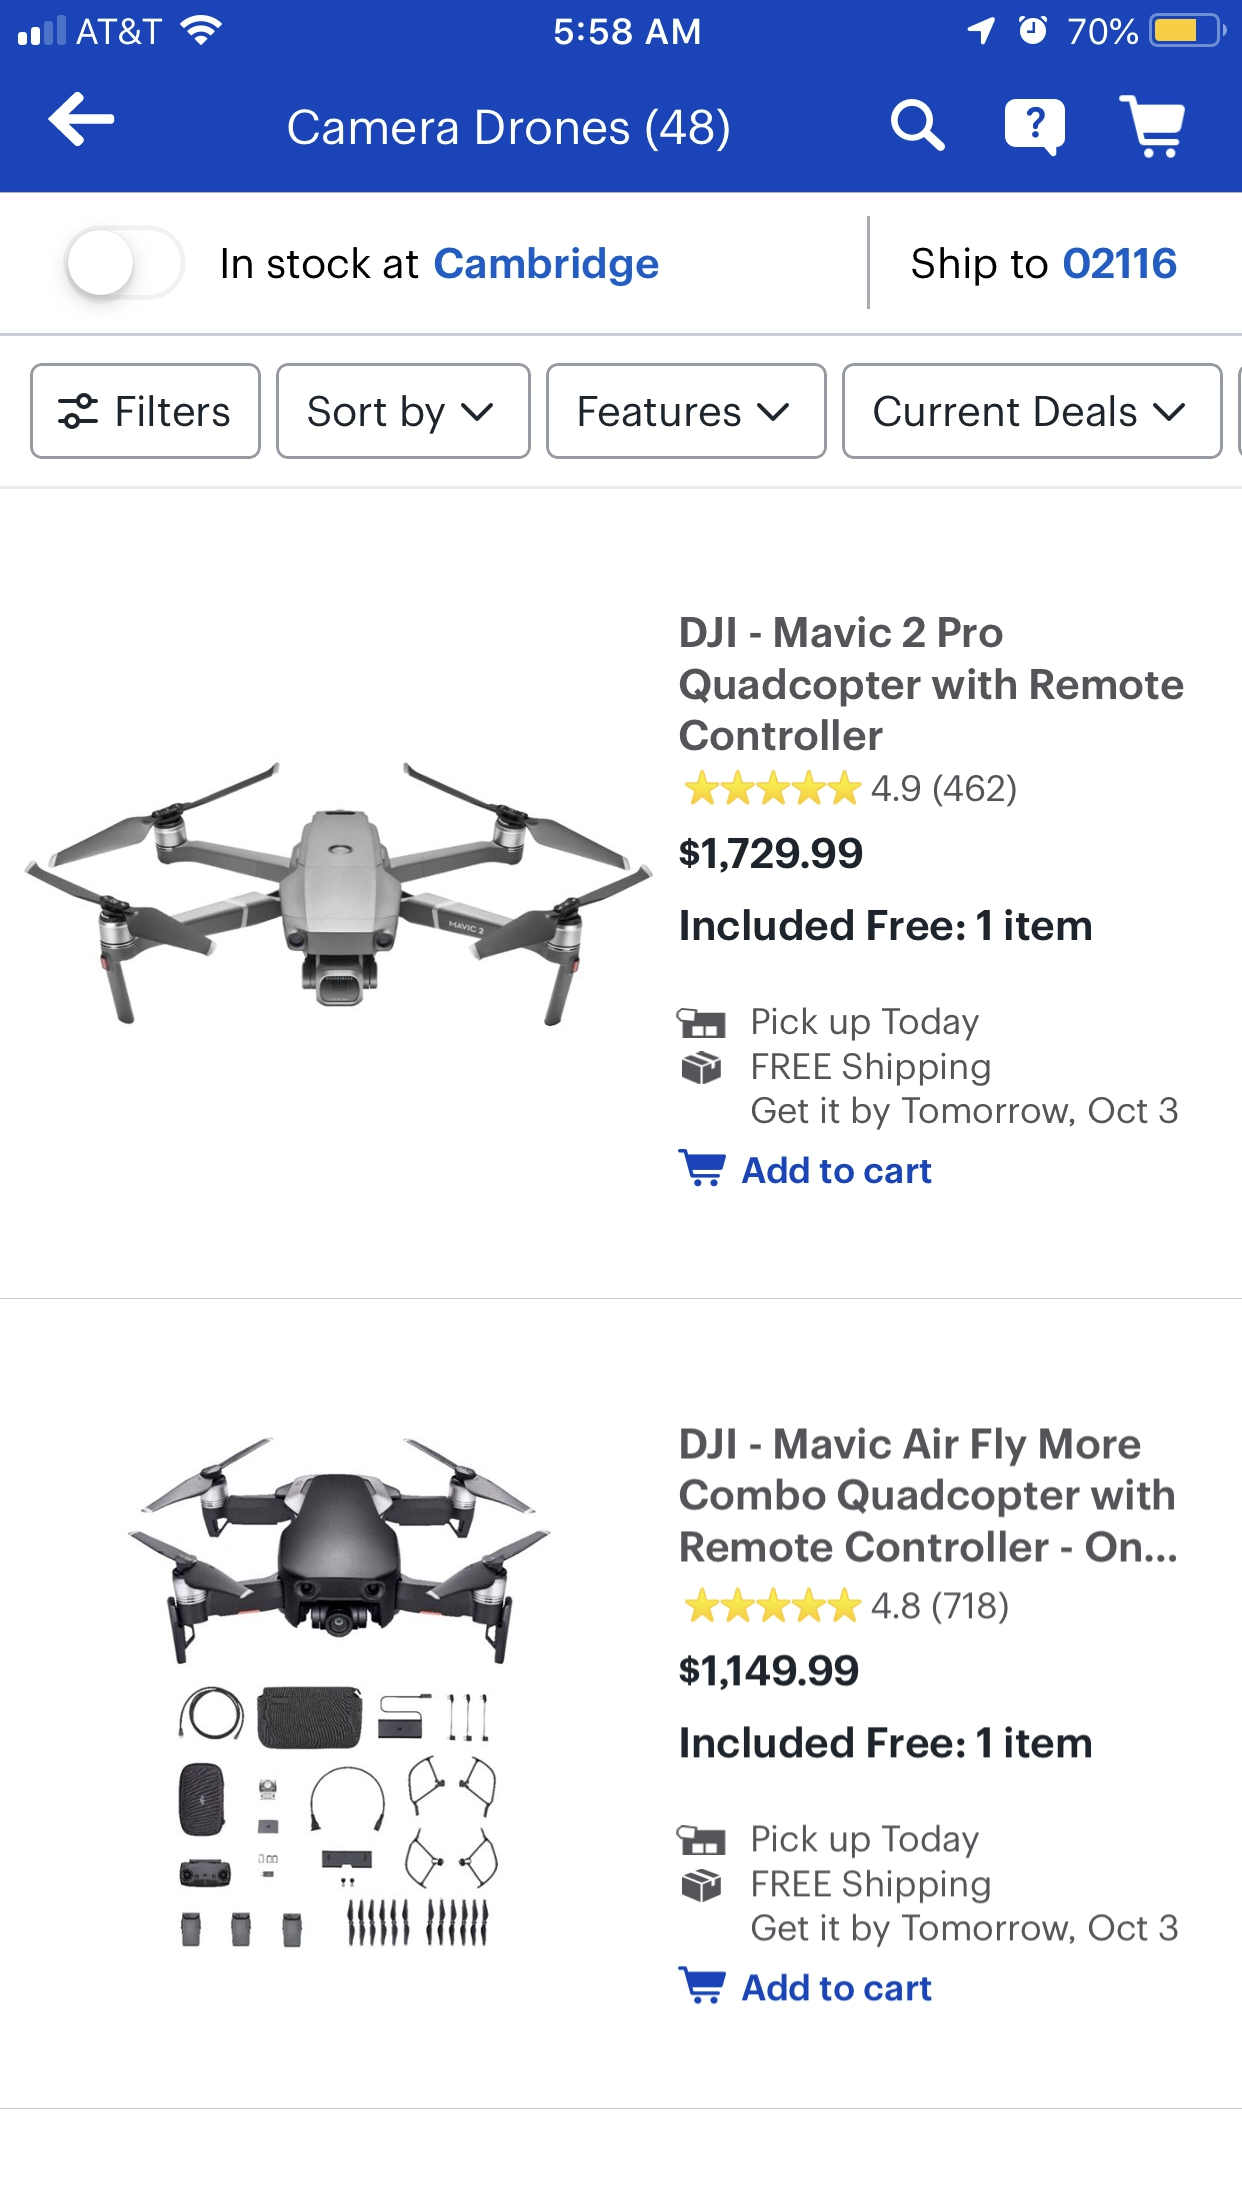Icon: (685, 1586, 863, 1623), (685, 770, 863, 805), (1118, 96, 1186, 161), (49, 93, 115, 149), (1004, 99, 1066, 158), (890, 99, 946, 153), (676, 1965, 726, 2005), (678, 1149, 726, 1187), (461, 402, 494, 422), (1153, 403, 1186, 422), (757, 403, 790, 422)
Image: (24, 761, 657, 1028), (127, 1435, 554, 1665), (177, 1685, 500, 1949), (676, 1824, 726, 1856), (676, 1008, 726, 1039), (682, 1868, 722, 1903), (682, 1049, 722, 1084)
Switch: (64, 224, 187, 302)
Text: (679, 616, 1184, 752), (679, 1427, 1177, 1563), (751, 1823, 1178, 1949), (752, 1005, 1178, 1131), (288, 108, 729, 153), (223, 247, 660, 288), (681, 908, 1092, 942), (681, 1726, 1092, 1759), (911, 246, 1177, 287), (679, 1653, 858, 1691), (679, 837, 863, 873), (742, 1156, 933, 1184), (742, 1973, 933, 2002), (870, 773, 1018, 808), (872, 1591, 1008, 1626)
TextButton: (842, 362, 1224, 459), (546, 362, 828, 461), (276, 362, 532, 459), (30, 362, 262, 459)
UpperTaskBar: (2, 2, 1242, 49)
